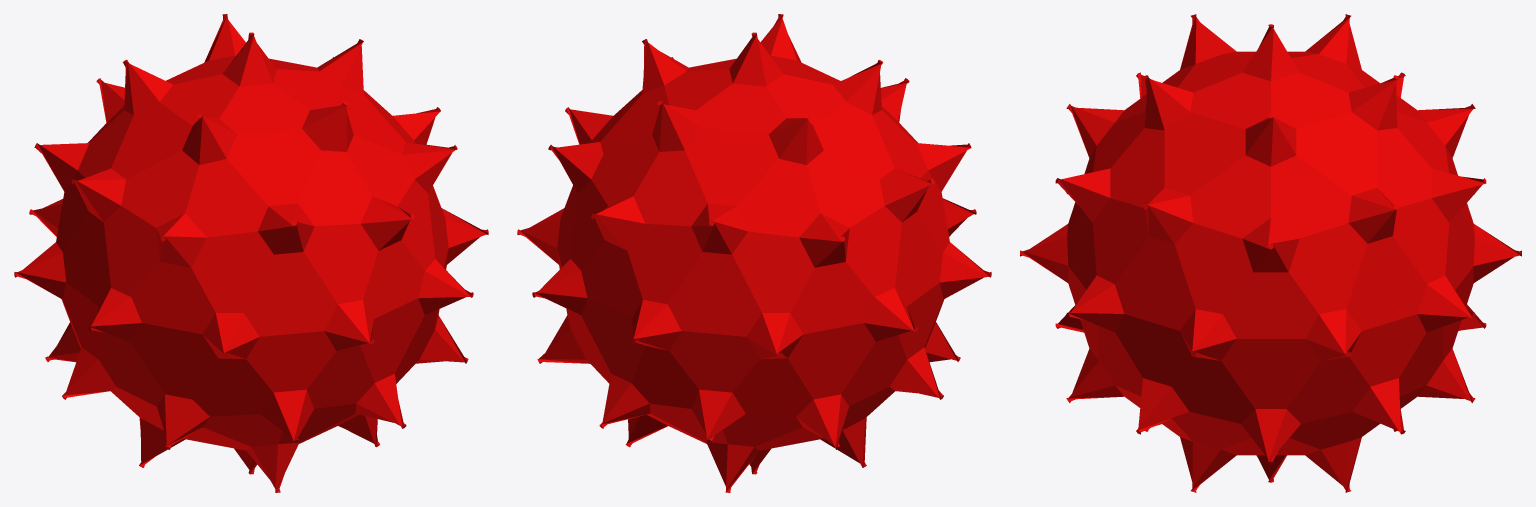
3 views of the same model, side by side, from view 1: azimuth 30°, elevation 25°; view 2: azimuth 150°, elevation 25°; view 3: azimuth 270°, elevation 25° (orthographic). The views are drawn at different scales.
Visible parts, largest first — view 1: Icosphere; view 2: Icosphere; view 3: Icosphere.
Part boxes in pixels (<box>): Icosphere: <box>14,14,488,492</box>; Icosphere: <box>517,14,991,492</box>; Icosphere: <box>1020,14,1521,492</box>.
Size of the model in its own units: 2.26 by 2.37 by 2.36.
